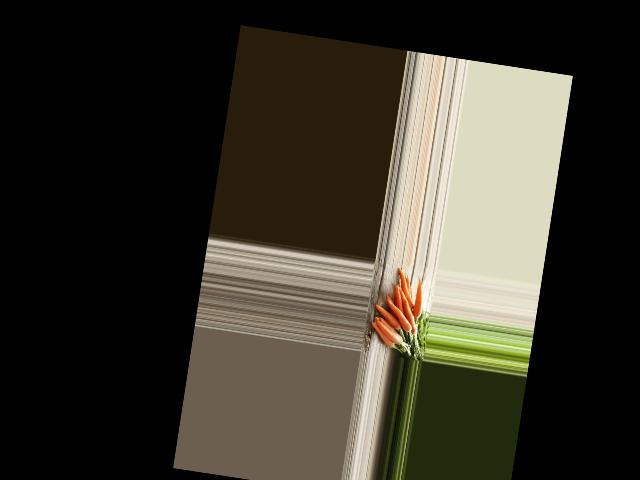carrot: (411, 279, 429, 317)
